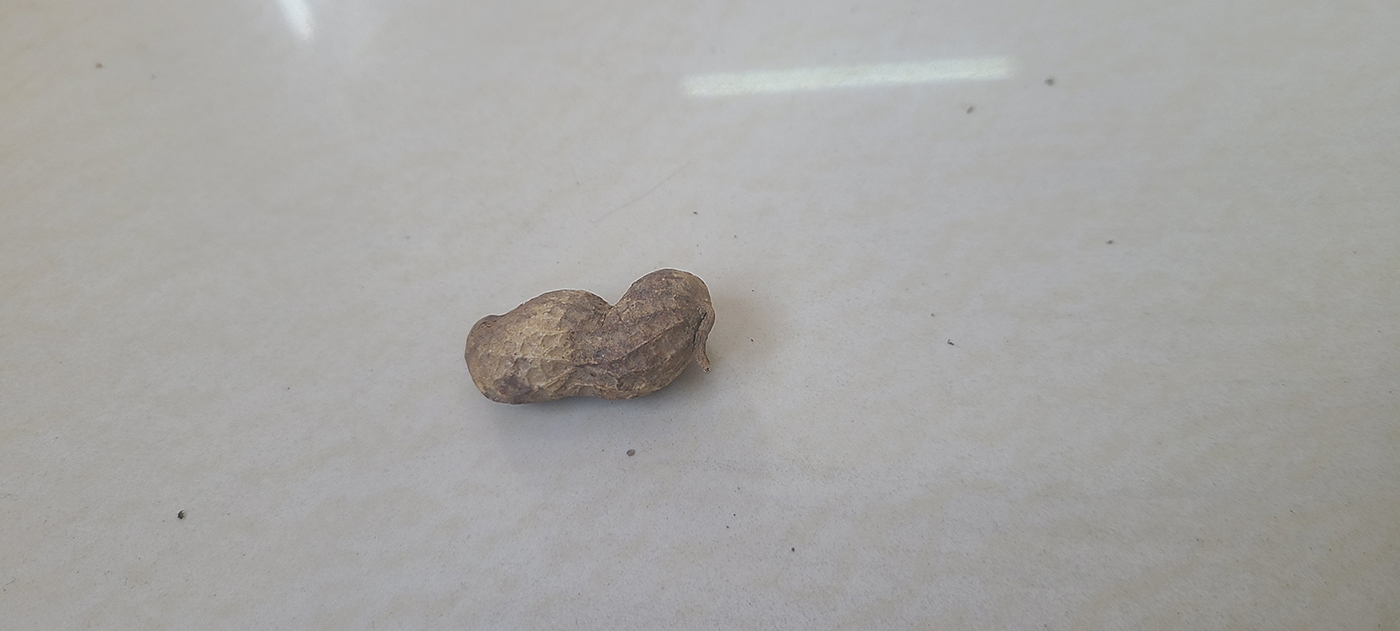l: (467, 262, 716, 406)
